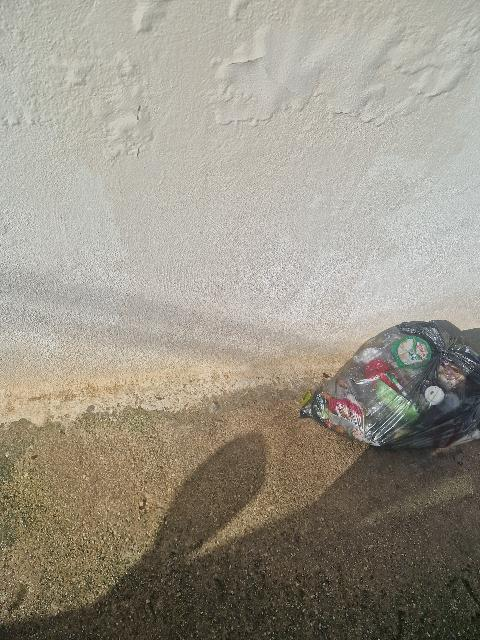Recyclable -Grey-: (301, 321, 480, 448)
